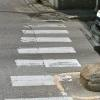Crosswalk: (21, 12, 75, 96)
